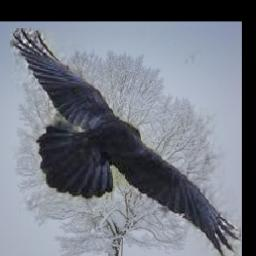Crow: (11, 29, 242, 256)
